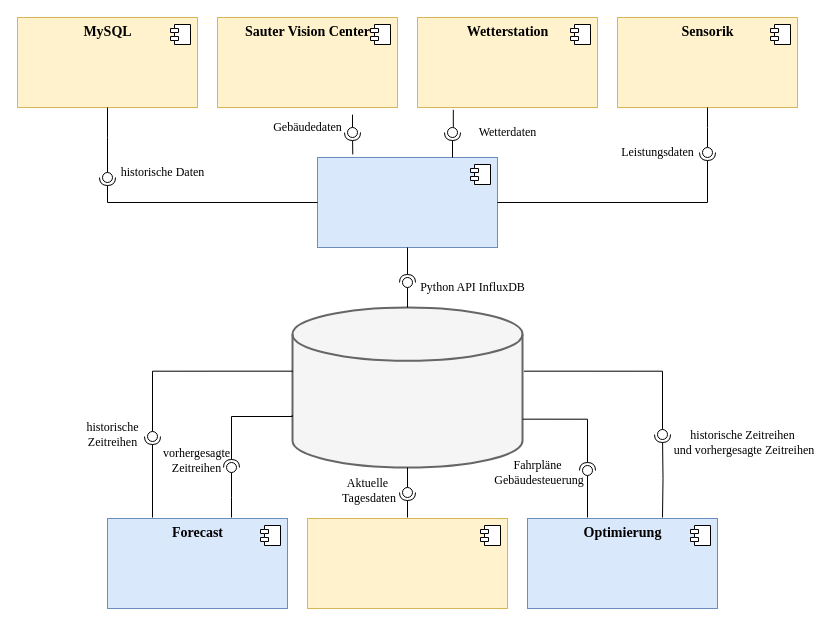
Image size: 835x626. Some labels were removed from this diagram. The centre of each missing label's shape, as x and y in pixels:
"Datenkollektor" goes at point (407, 202).
"Visualisierung:Grafana" goes at point (407, 563).
"Zeitreihendatenbank:InfluxDB" goes at point (407, 387).
